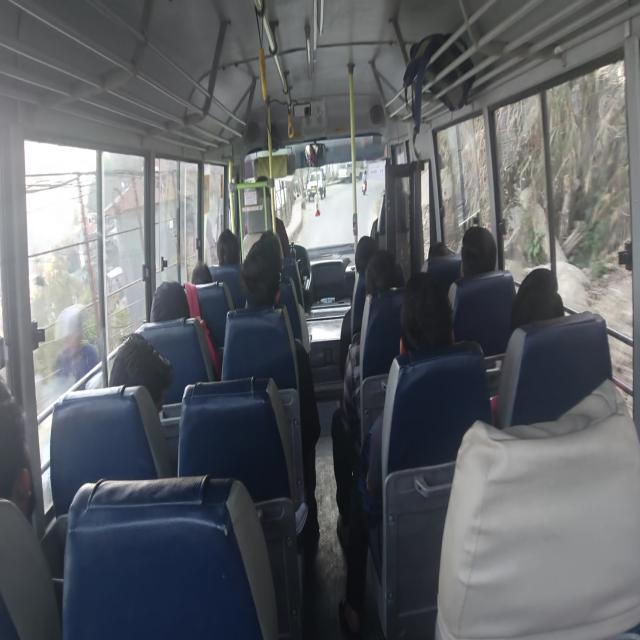person: (1, 368, 48, 524), (506, 256, 572, 346), (112, 327, 177, 417), (399, 272, 458, 364), (458, 217, 508, 294), (148, 271, 198, 330), (241, 250, 287, 312), (364, 255, 408, 307), (352, 226, 383, 280), (260, 224, 294, 273), (214, 224, 247, 273), (252, 160, 284, 210), (382, 170, 411, 206), (423, 239, 457, 269), (190, 261, 212, 293)
